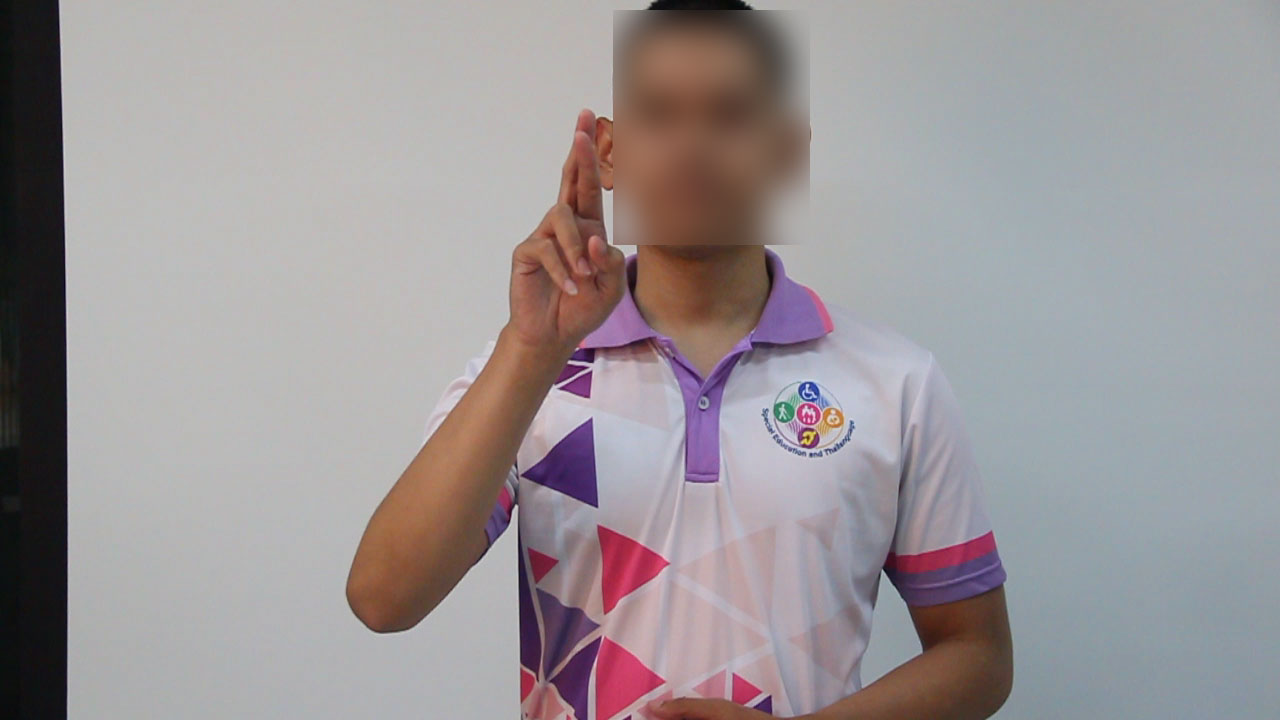rao: (493, 101, 638, 377)
